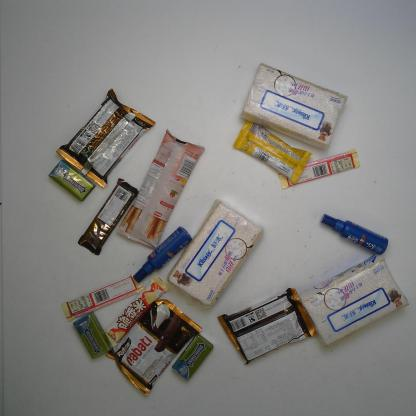Chocolate: (74, 176, 142, 260), (231, 117, 314, 185), (99, 274, 171, 352), (58, 272, 147, 326), (273, 148, 362, 192)
Dessert: (112, 124, 208, 254), (53, 86, 158, 190), (103, 295, 205, 398), (214, 284, 322, 370)
Gum: (170, 330, 216, 384), (46, 158, 97, 206), (70, 309, 116, 361)
Personal Hygiene: (131, 224, 195, 286), (317, 211, 390, 258)
Tissue: (163, 197, 266, 311), (294, 252, 413, 350), (237, 60, 351, 154)
